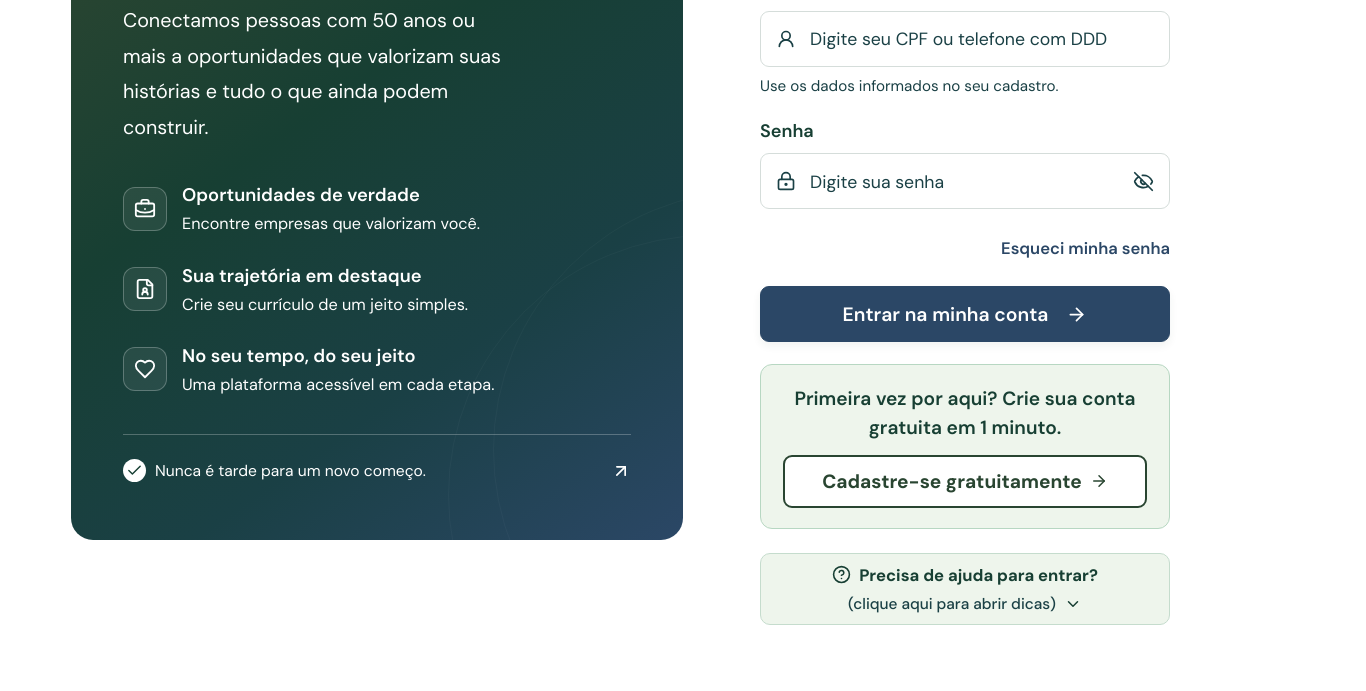
mantém erros de formulário no formulário em vez de abrir uma página de erro
(page scrolled)
Click the button "Entrar na minha conta": (965, 314) [760,286,1170,342]
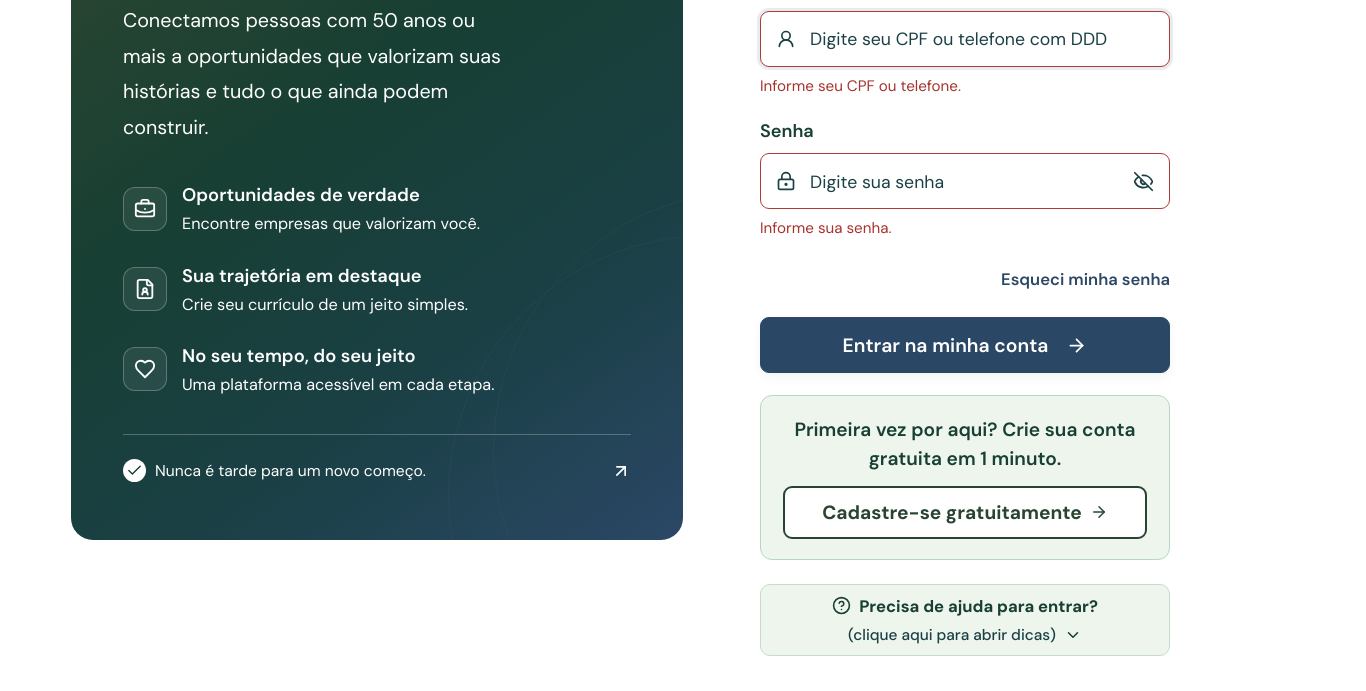
Expected: the text "Informe seu CPF ou telefone." is shown, [760,76,961,96]
